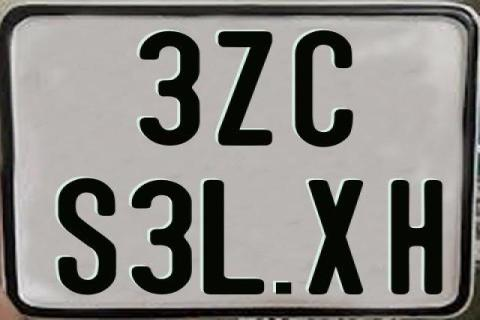0: (140, 29, 202, 148), (130, 180, 190, 295)
C: (292, 30, 351, 148)
H: (390, 180, 446, 299)
L: (202, 179, 269, 295)
S: (55, 178, 114, 300)
X: (308, 180, 368, 299)
Z: (215, 30, 273, 146)
